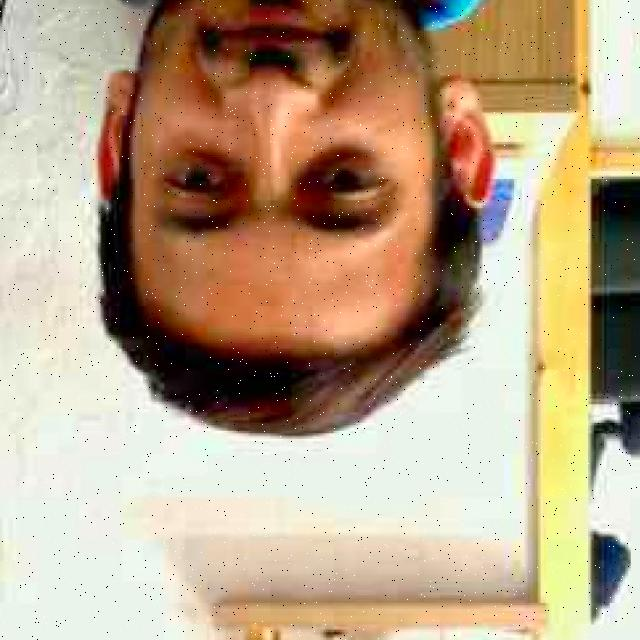puffy_eyes: (162, 147, 237, 171), (306, 146, 378, 170)
